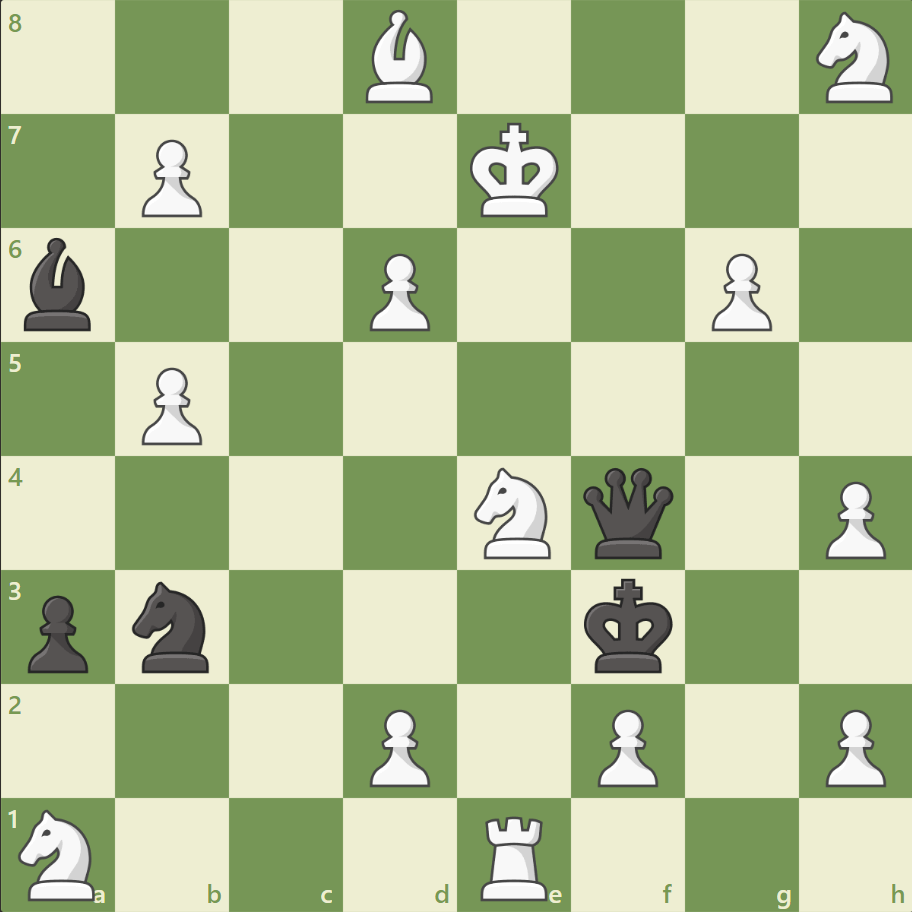B: (358, 6, 442, 109)
K: (465, 117, 565, 225)
N: (806, 7, 903, 110), (465, 461, 562, 564), (11, 802, 108, 904)
P: (133, 132, 208, 223), (701, 246, 776, 337), (133, 359, 208, 450), (361, 246, 435, 337), (815, 473, 889, 564), (361, 700, 435, 791), (588, 700, 662, 791), (815, 700, 889, 791)
R: (473, 806, 556, 904)
b: (17, 233, 101, 336)
k: (579, 571, 679, 679)
n: (124, 575, 222, 677)
p: (20, 586, 95, 677)
q: (578, 463, 677, 562)
